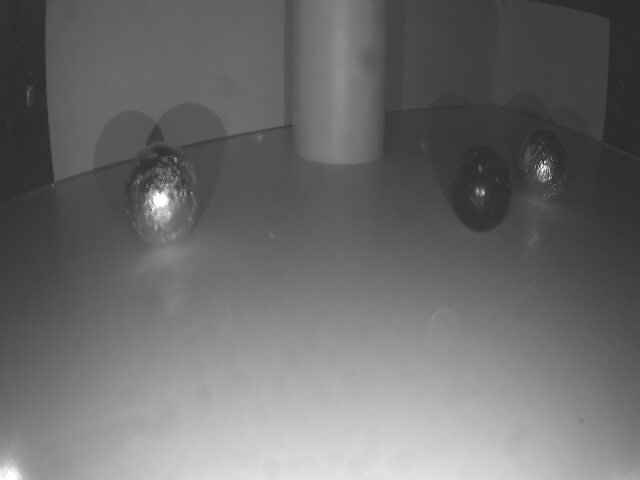Dead: (448, 145, 514, 234)
Live: (122, 144, 202, 250), (516, 126, 569, 201)
